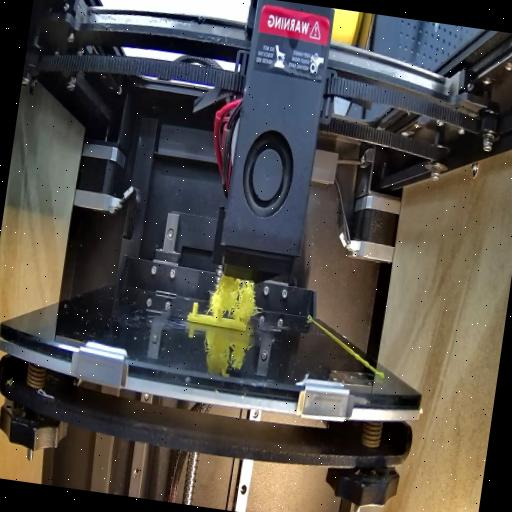spaghetti: (202, 268, 264, 326)
